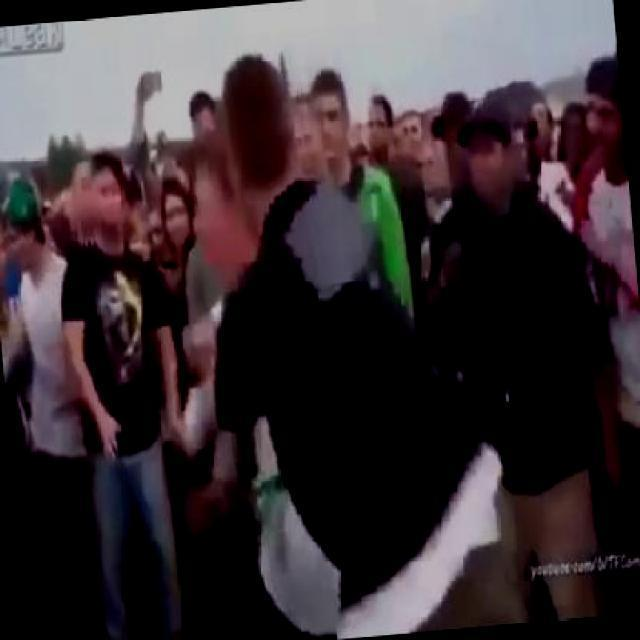fight: (158, 50, 452, 547)
